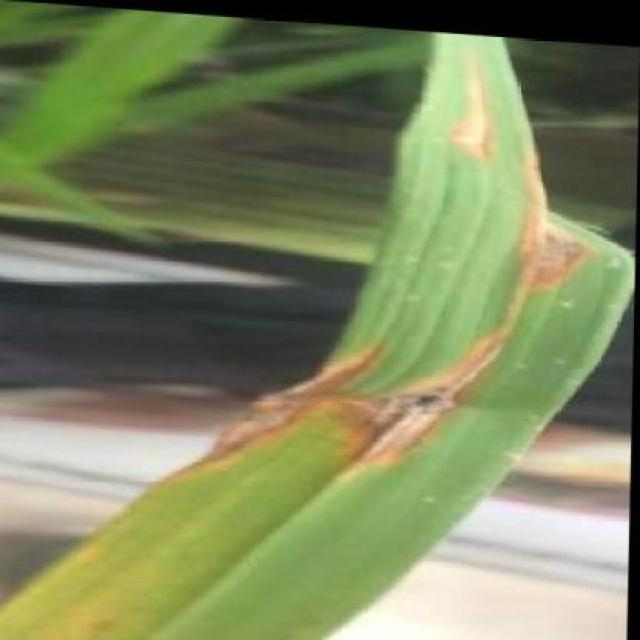Bacterial_Leaf_Blight: (332, 306, 526, 474), (185, 303, 392, 452), (507, 138, 611, 298), (437, 48, 512, 154)
